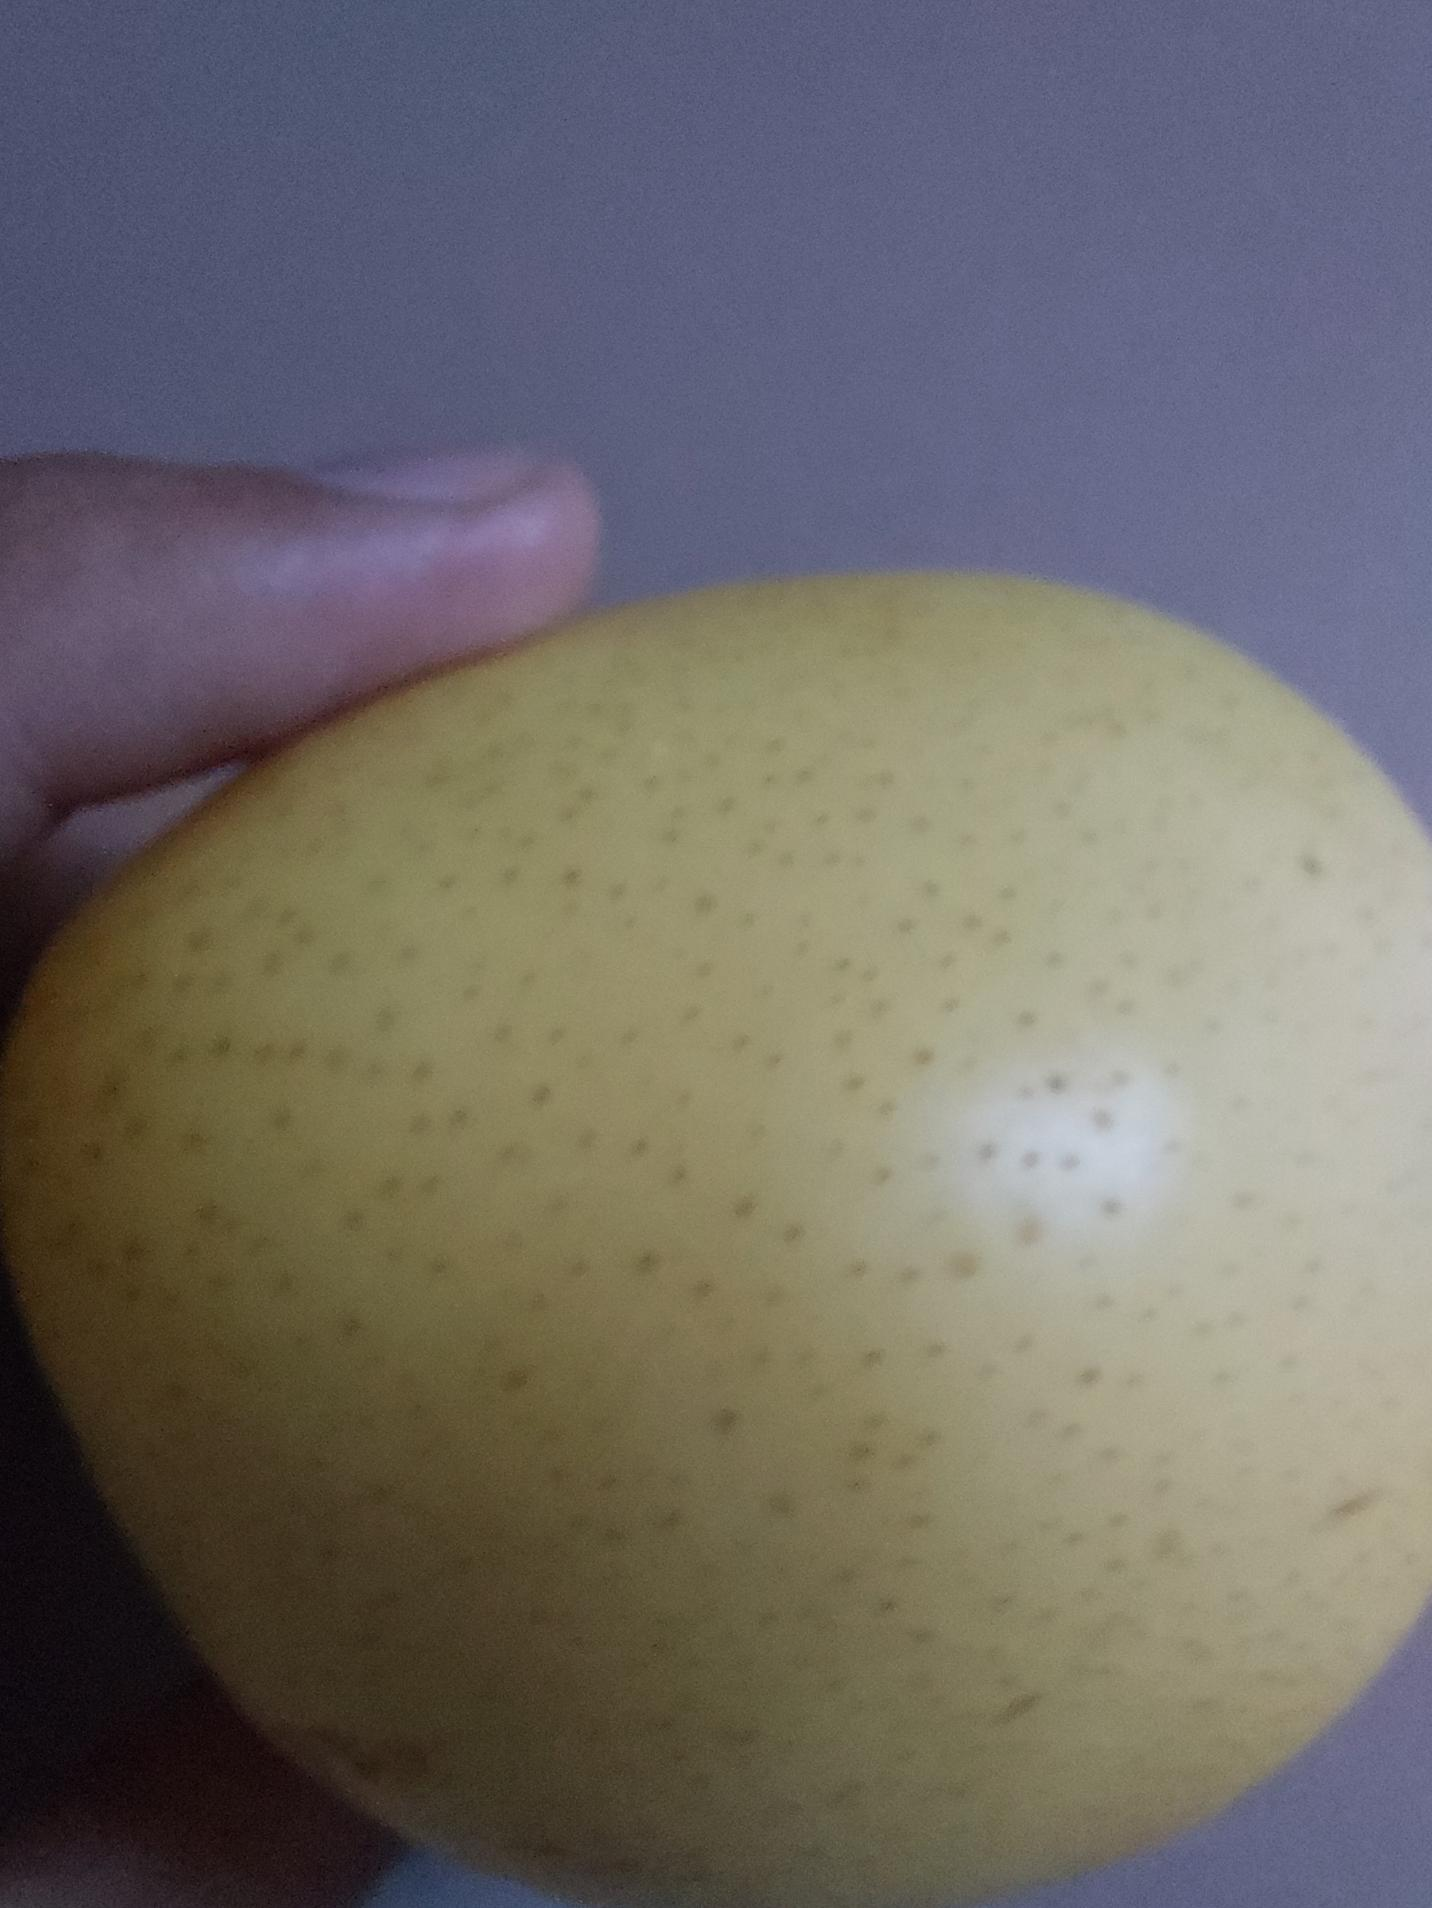Good Pear: (0, 559, 1432, 1908)
